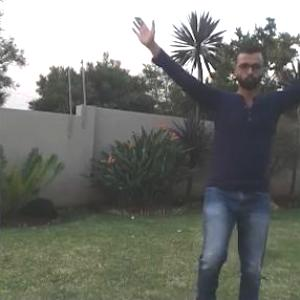takeoff: (134, 25, 299, 297)
